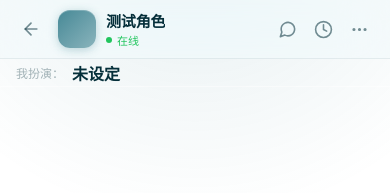
Test: ChatArea 内心活动按钮（affinity 门控回归） › affinity=null（未评估/新会话）时按钮仍存在于头部，弹层显示占位而非数值
This screenshot has width=390, height=193.
Step 1. Click the button named "内心之声" → (287, 29), box x1=270 y1=12 x2=304 y2=46
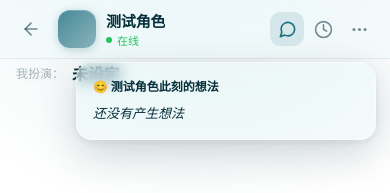
Now the element with class "dm-inner-voice" is shown, box x1=76 y1=62 x2=376 y2=140
Now the text with class "dm-inner-voice-text" reads "还没有产生想法", box x1=93 y1=105 x2=184 y2=121
